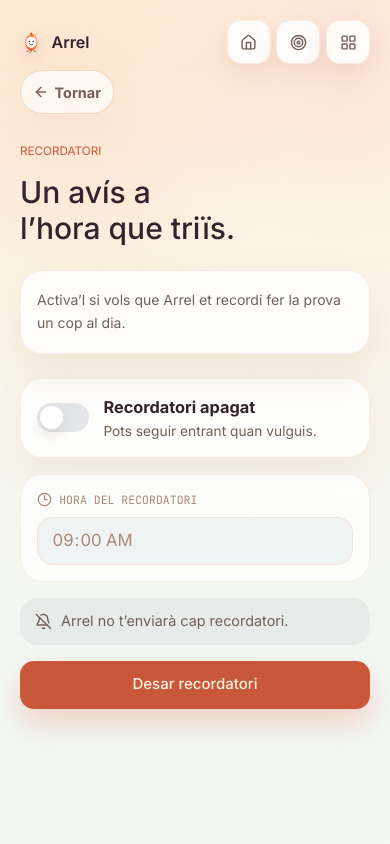
Scenario: Reminder settings › saves an enabled daily reminder with the selected time
Click the checkbox at (195, 418), box x1=20 y1=378 x2=370 y2=458
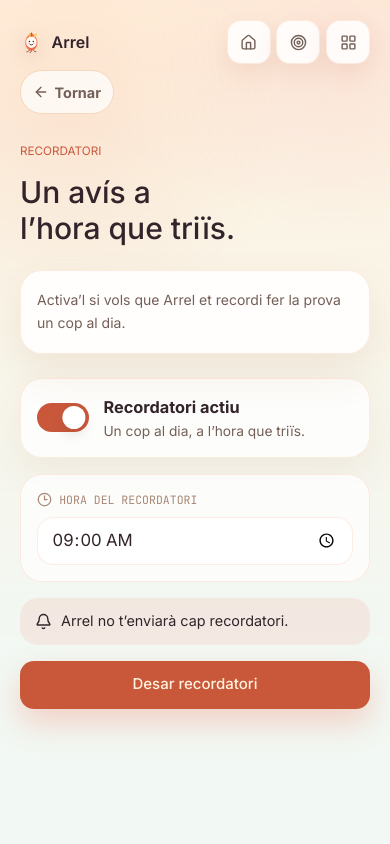
Replace the text in the time field labelled "Hora del recordatori" with "08:30" at (195, 541), box x1=37 y1=517 x2=353 y2=565
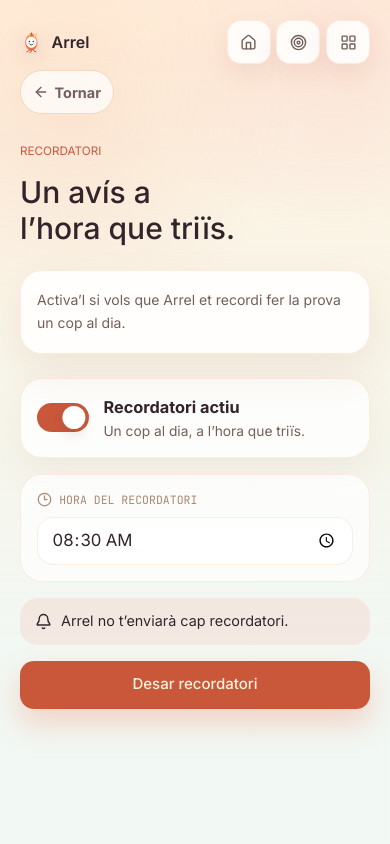
Click the button "Desar recordatori" at (195, 684), box x1=20 y1=660 x2=370 y2=708
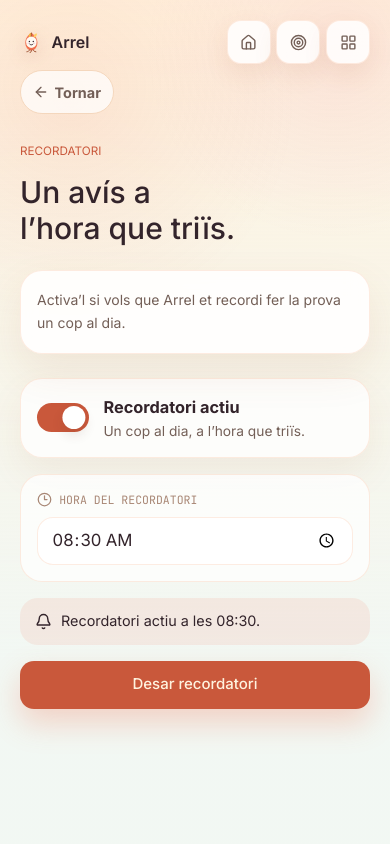
Now the text "Recordatori actiu a les 08:30." is shown, box x1=61 y1=612 x2=260 y2=630
